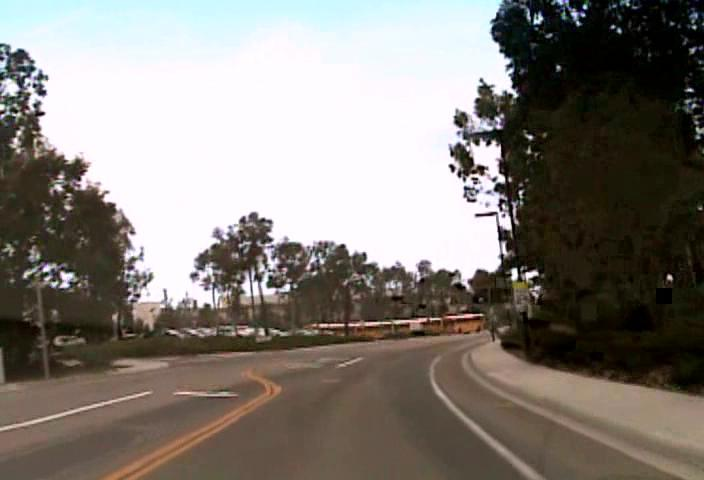schoolSpeedLimit25: (511, 280, 531, 315)
